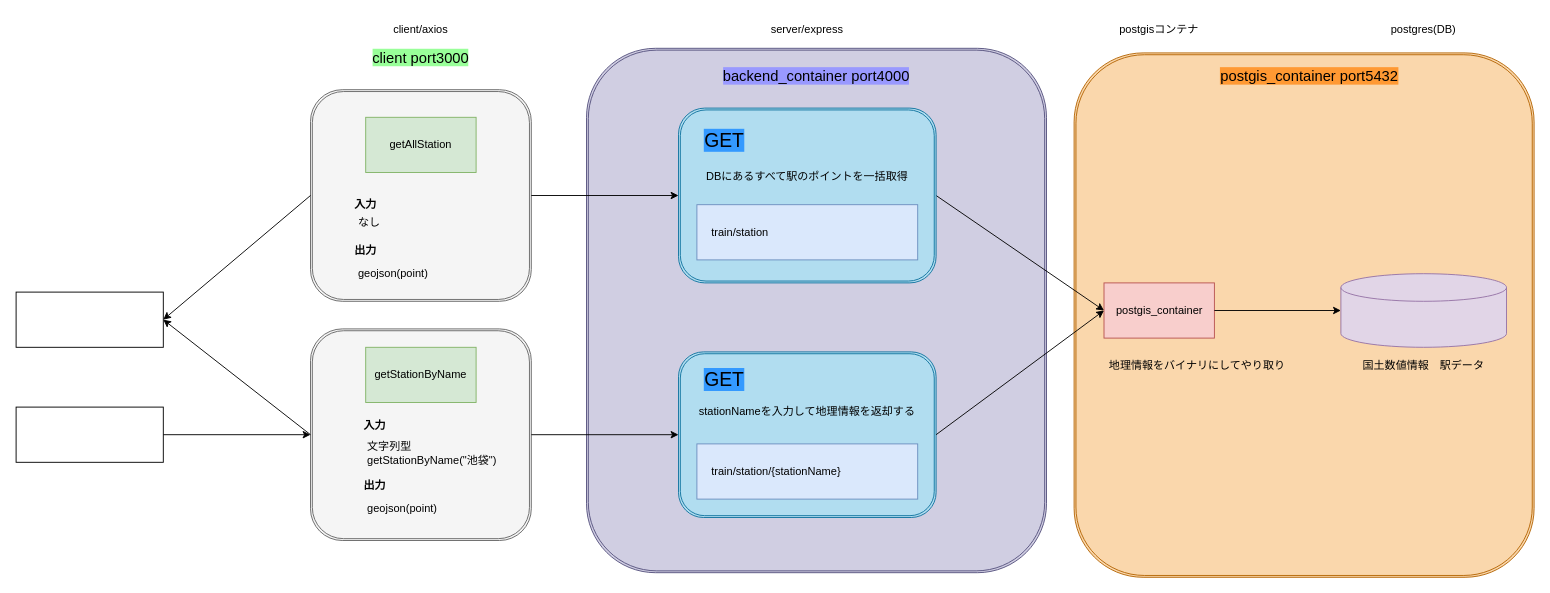
Some shapes in this 1550 by 593 pixel diagram are drawn without their labels. The shapes that lost their labels are listed below. From the top down, each one's box as (x1, y1, x2, y2) in pixels, then its label:
(15, 291, 163, 347): 地図上に表示
(1340, 273, 1506, 347): N05-23_Station2
(15, 406, 163, 462): AIで引数を取得（未実装）
